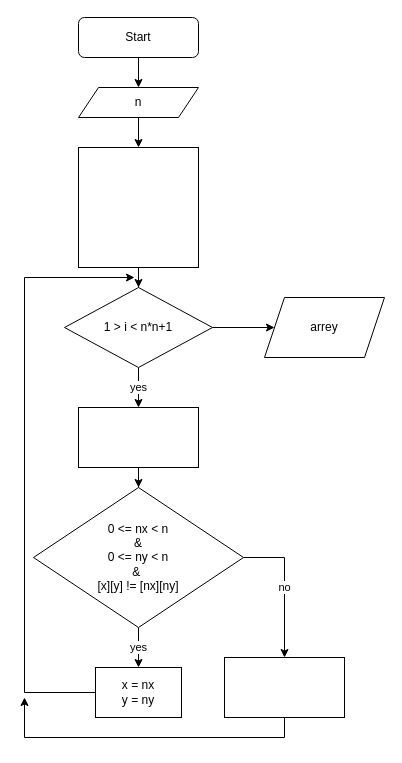
The diagram is 402 pixels wide and 763 high, and some of its shapes have lost their labels. Here are the shapes that lost their labels. From the top down, the box of each, then its label:
(78, 146, 198, 268): x = 0 y = 0 dx = 1 dy = 0 array [n][n] nx = 0 ny = 0 i = 1
(78, 406, 198, 468): array [x][y] = i nx = x + dx ny = y + dy
(224, 656, 344, 718): dx = -dy dy = dx x = x + dx y = y + dy
